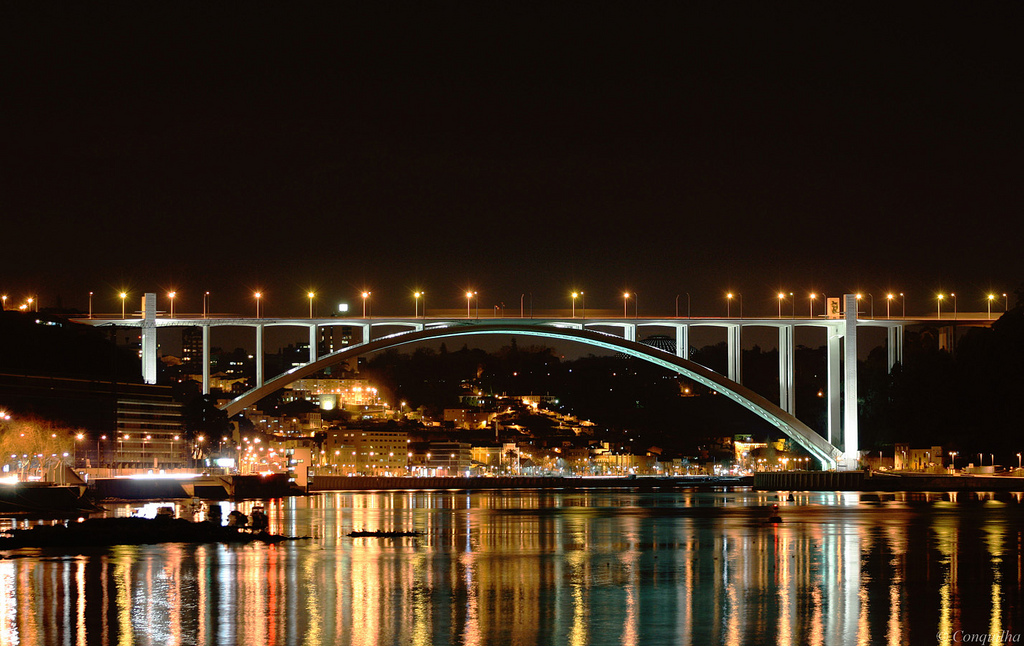arrabida: (70, 289, 1008, 473)
